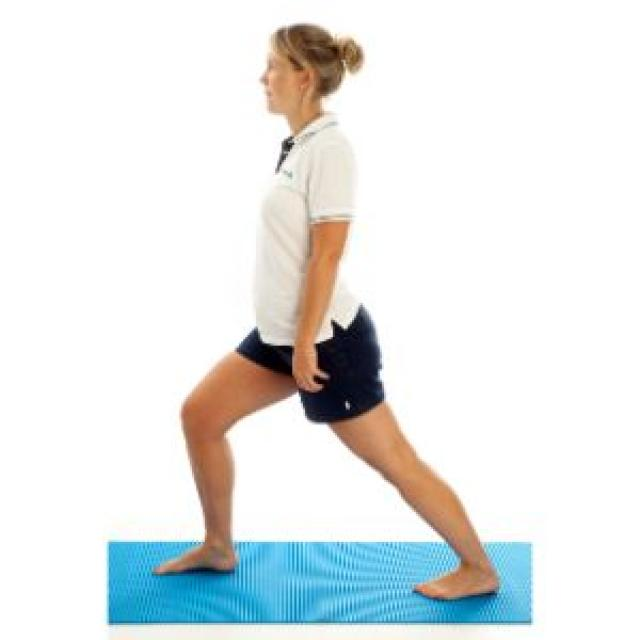adult: (156, 0, 512, 640)
